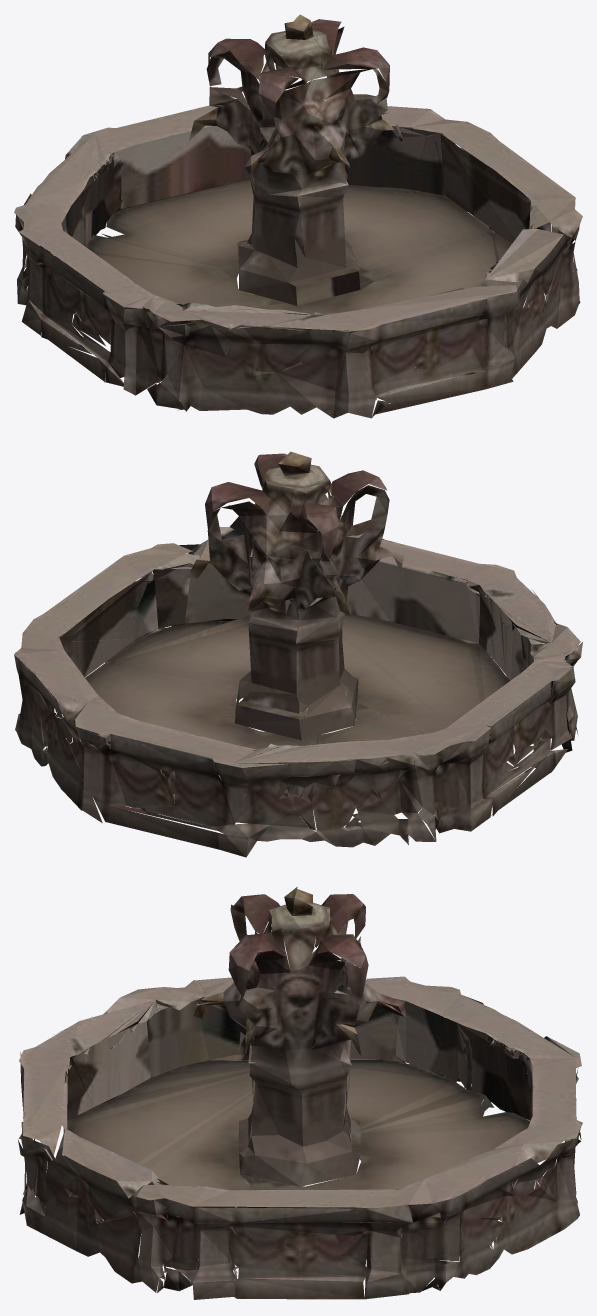
Rendered from park_dry_fountain_1117.glb.
3 views of the same model, one above another, from view 1: azimuth 30°, elevation 25°; view 2: azimuth 150°, elevation 25°; view 3: azimuth 270°, elevation 25° (orthographic). The views are drawn at different scales.
Parts seen in each view (by area): view 1: world; view 2: world; view 3: world.
Boxes of the visible parts, bbox=[...] form: world: bbox=[14, 14, 582, 418]; world: bbox=[14, 451, 582, 857]; world: bbox=[18, 887, 582, 1299].
Size of the model in its own units: 1.64 by 1 by 1.7.
Materials: 1 (1 with a texture image).
